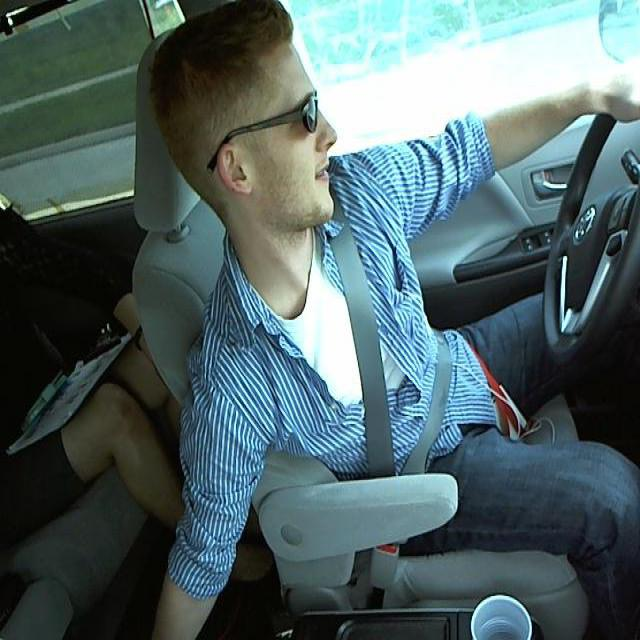seatbelt: (329, 205, 465, 467)
